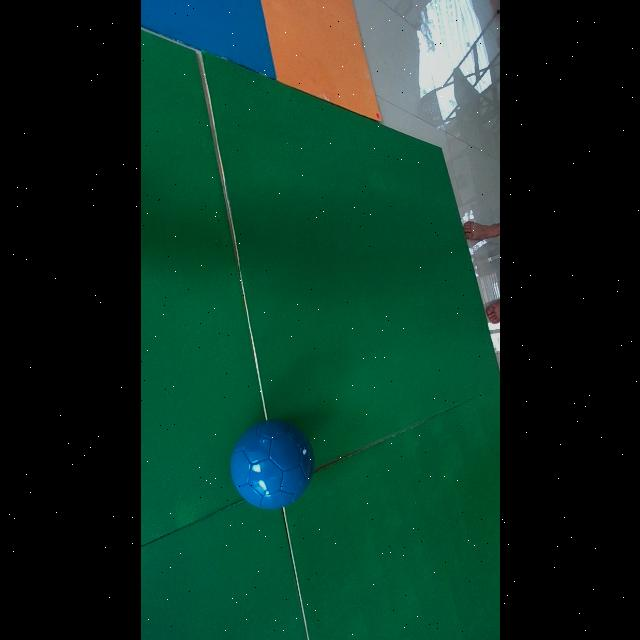B: (230, 420, 315, 510)
